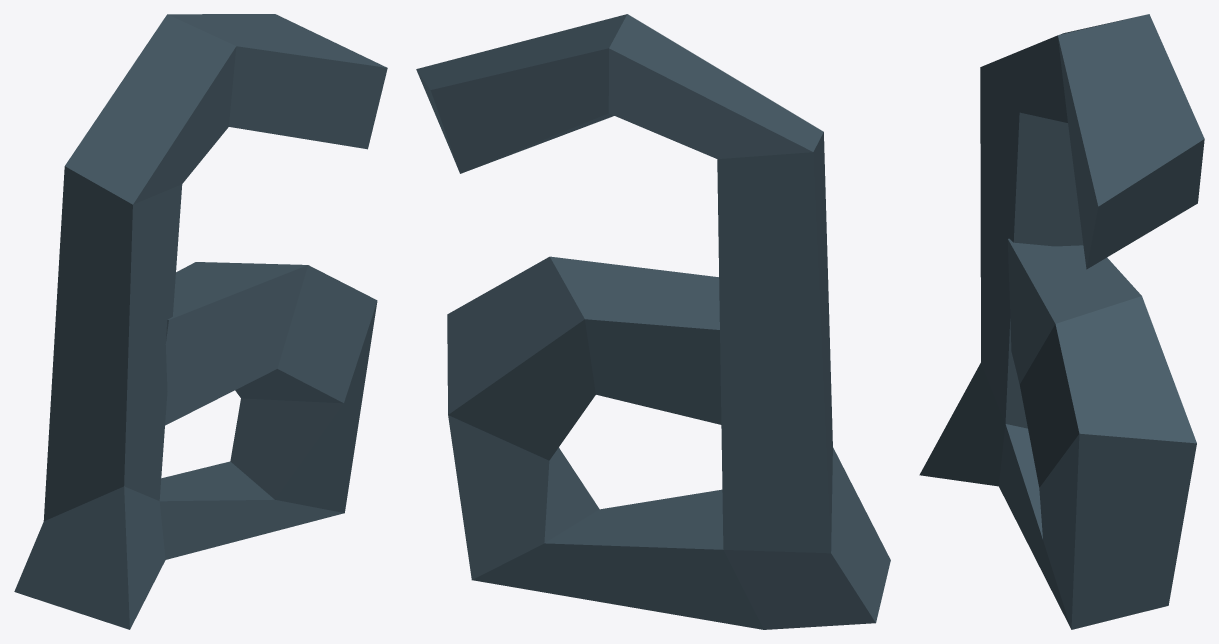
Rendered from lowercase-h.glb.
The picture shows the model from 3 angles, left to right: view 1: azimuth 30°, elevation 25°; view 2: azimuth 150°, elevation 25°; view 3: azimuth 270°, elevation 25°; orthographic projection. The views are drawn at different scales.
Bounding box in the file's own units: 0.1785 × 0.2236 × 0.105.
